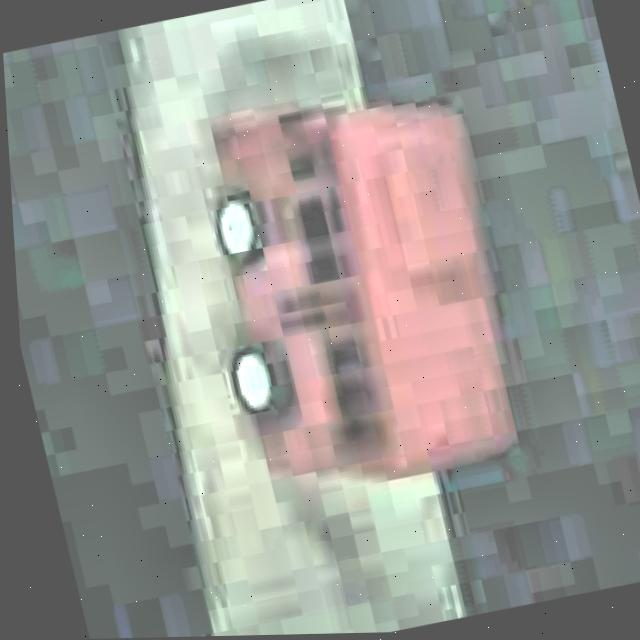bus: (165, 66, 550, 508)
